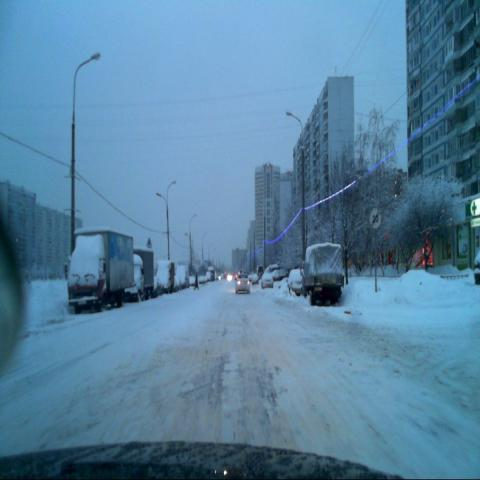3_25: (369, 204, 382, 230)
